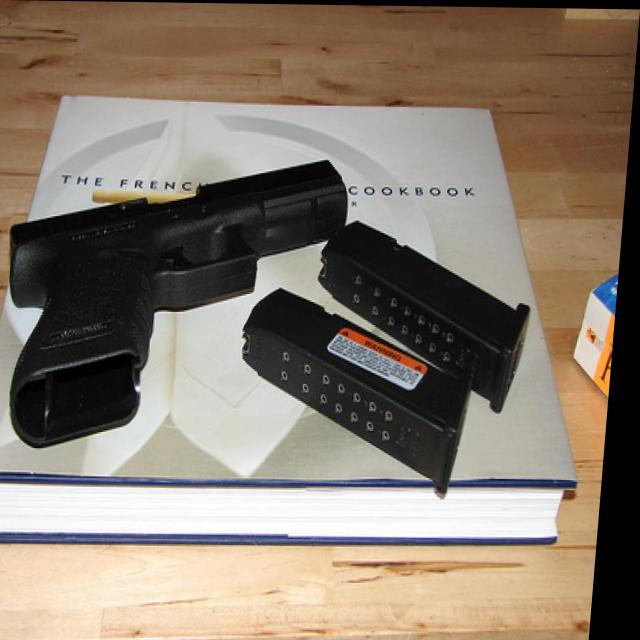handgun: (0, 150, 353, 446)
